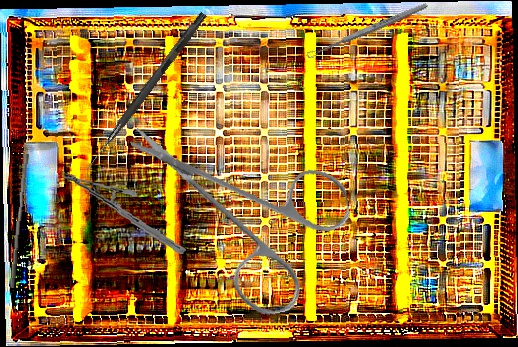Hook Surgical: (84, 10, 207, 174)
Iris Scissors: (128, 91, 366, 335)
Needle Holder: (58, 172, 191, 255)
Pusher: (9, 153, 30, 289)
Surgical Spoon: (305, 1, 429, 60)
